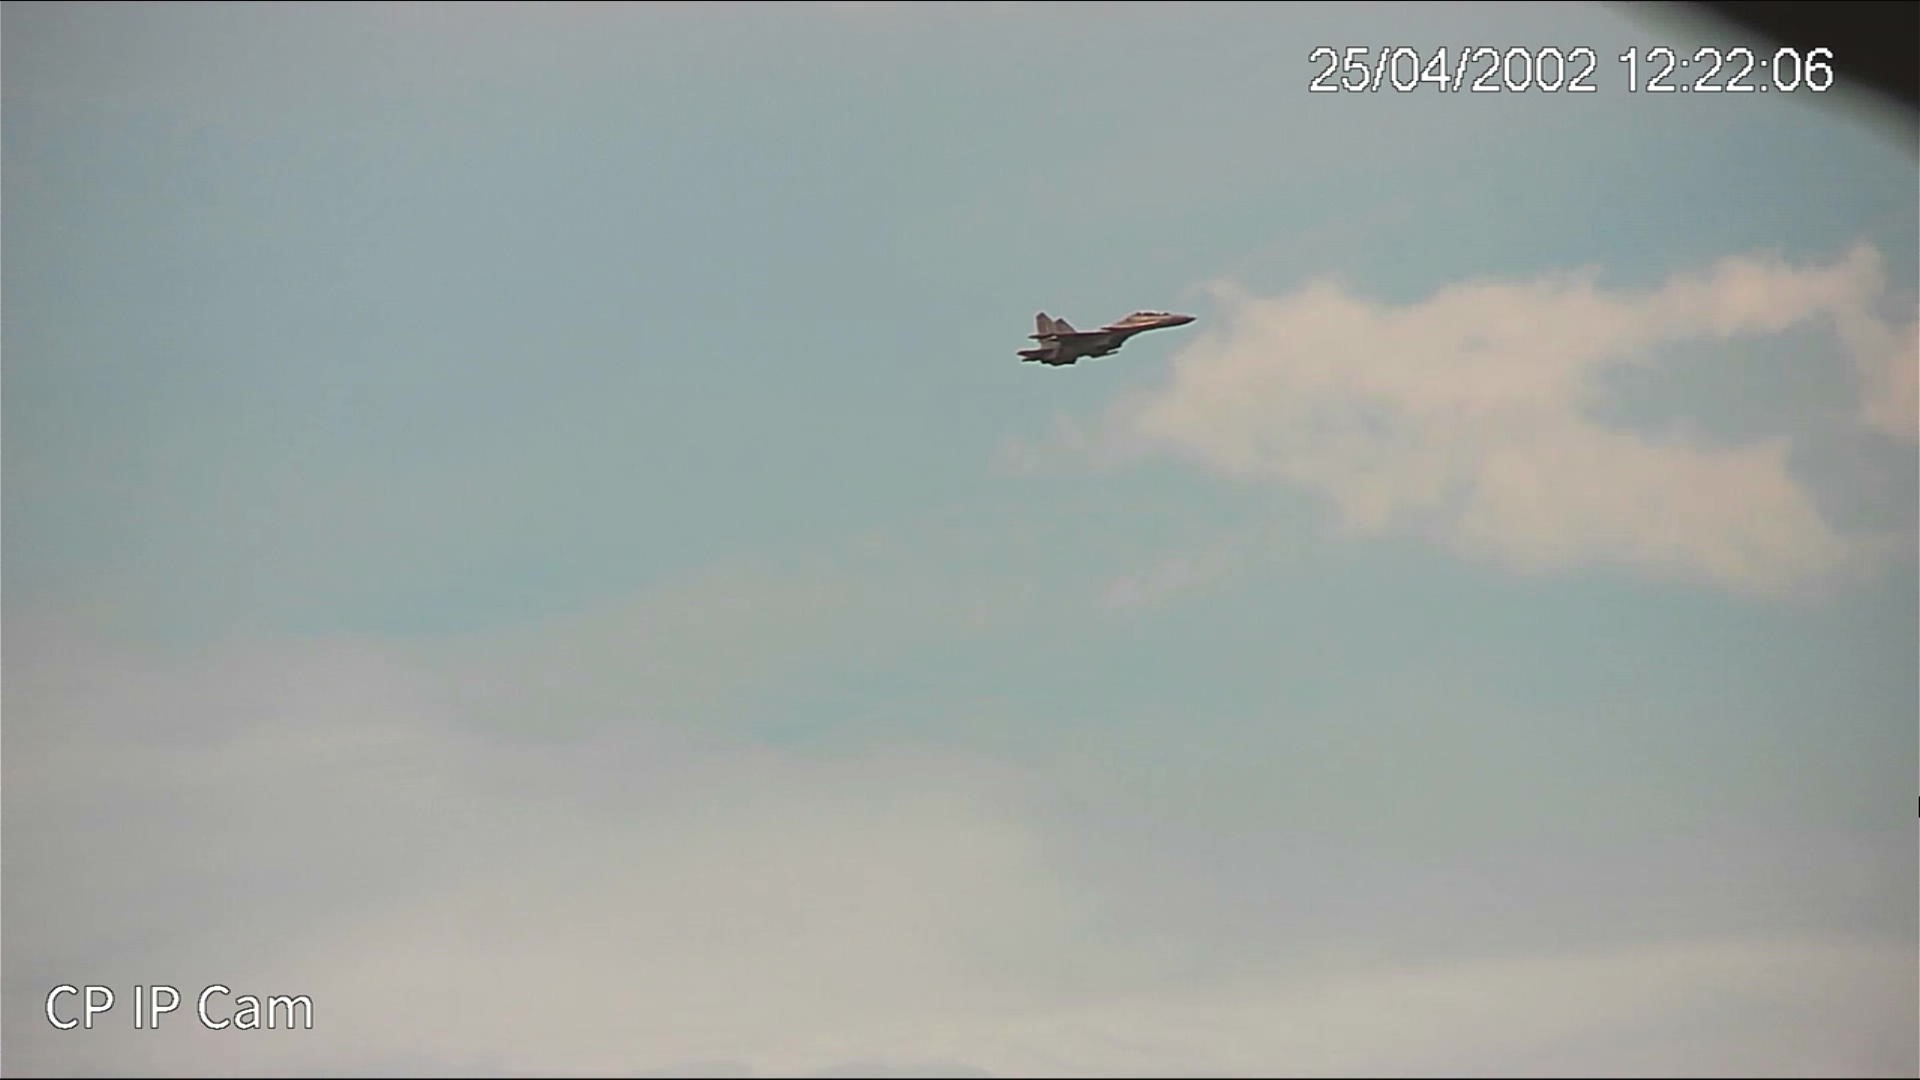SU_30: (1013, 301, 1203, 371)
